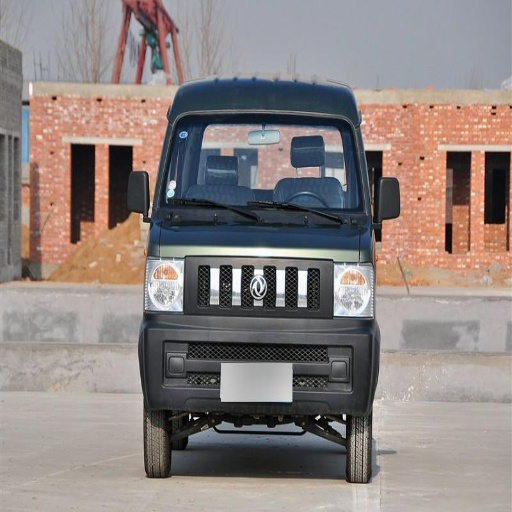front_bumper: (147, 304, 368, 413)
front_right_light: (146, 258, 182, 308)
hood: (157, 222, 272, 257)
trunk: (258, 310, 351, 374), (251, 247, 328, 278)
